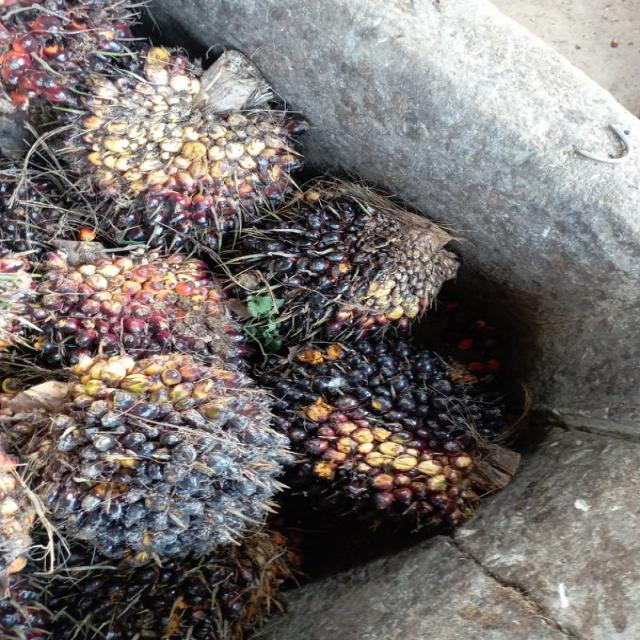fraksi 00: (243, 321, 576, 559)
fraksi 1: (51, 16, 339, 265)
